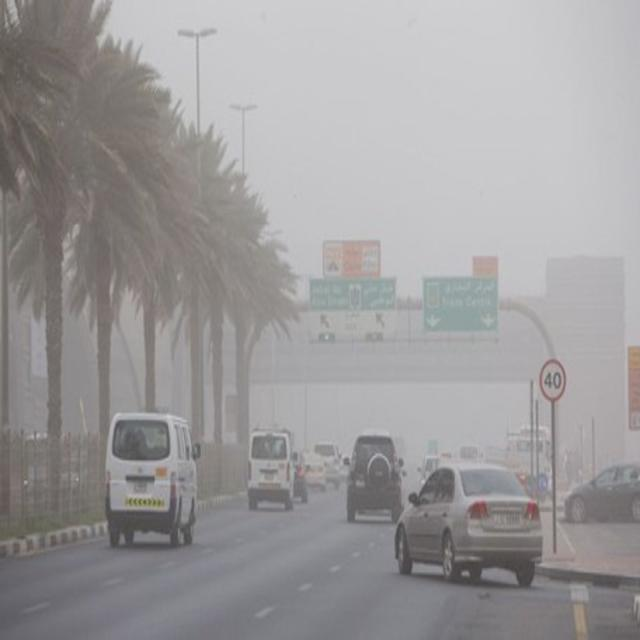car: (395, 461, 543, 587), (105, 411, 199, 549), (346, 430, 402, 522), (563, 462, 639, 524), (246, 424, 294, 513), (314, 437, 342, 489), (303, 449, 327, 486), (418, 456, 443, 490), (294, 450, 308, 508)
